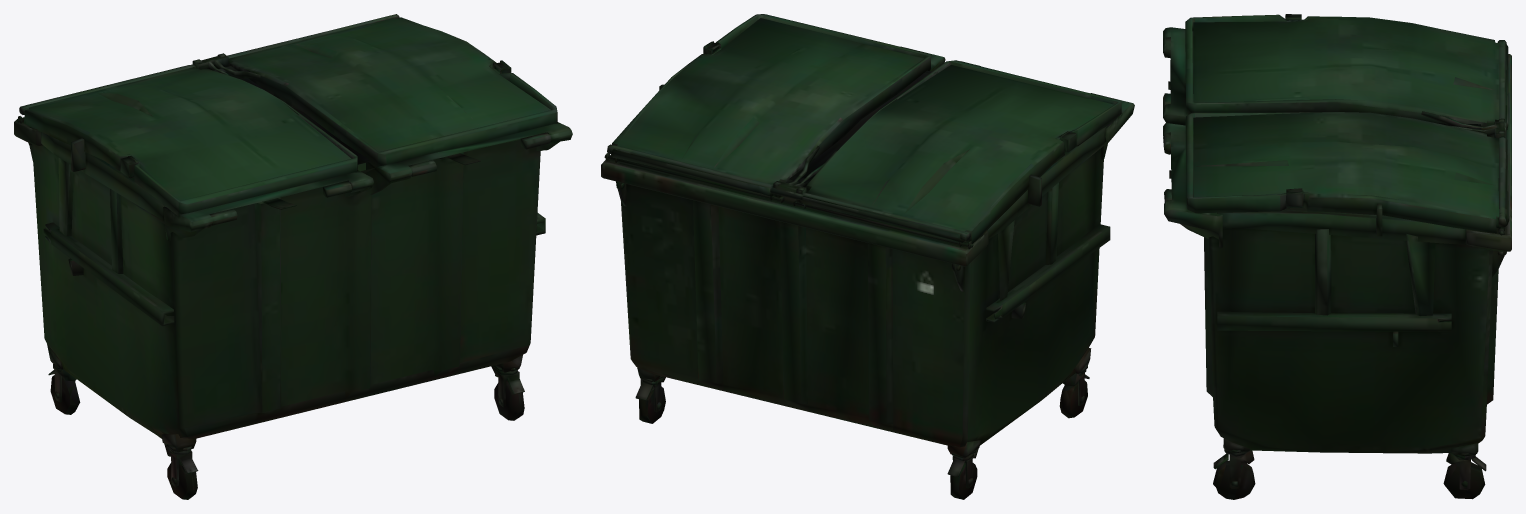
File: dumpster.glb
3 views of the same model, side by side, from view 1: azimuth 30°, elevation 25°; view 2: azimuth 150°, elevation 25°; view 3: azimuth 270°, elevation 25° (orthographic). The views are drawn at different scales.
Visible parts, largest first — view 1: dumpster; view 2: dumpster; view 3: dumpster.
Boxes of the visible parts, x1,y1,x2,y2 form: dumpster: (14, 14, 572, 499); dumpster: (601, 14, 1134, 499); dumpster: (1163, 14, 1511, 499).
Size of the model in its own units: 1.52 by 1.19 by 1.18.
Materials: 1 (1 with a texture image).
